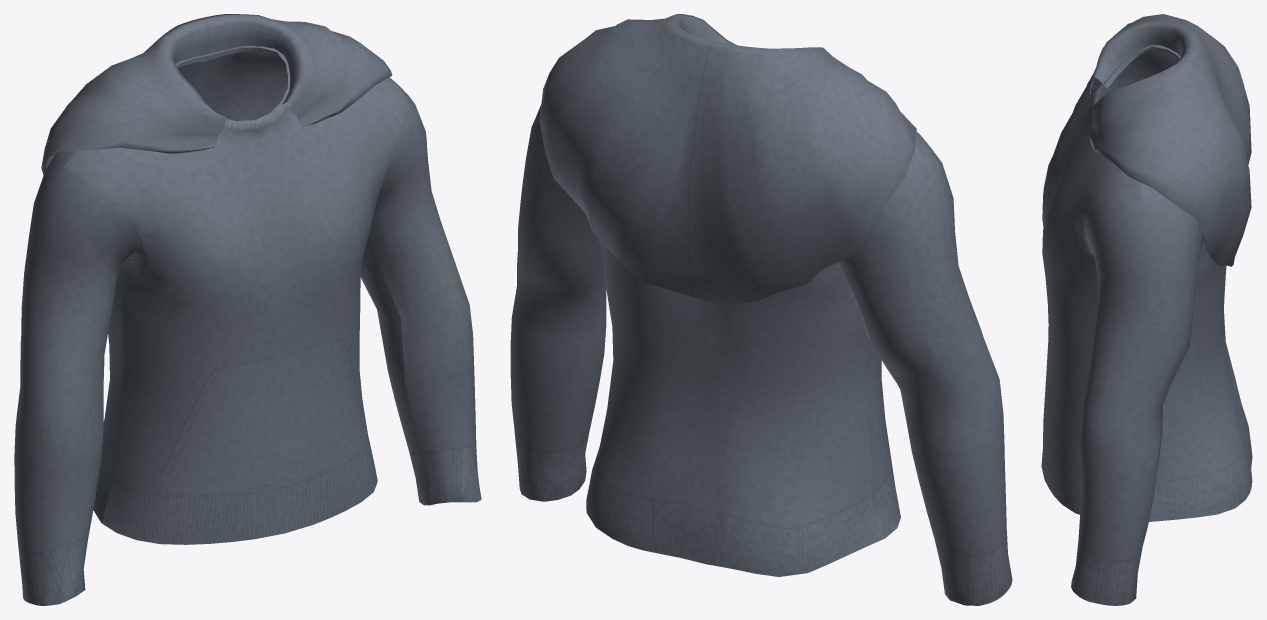
File: clothing_hoodie.glb
3 renders of one model, left to right at view 1: azimuth 30°, elevation 25°; view 2: azimuth 150°, elevation 25°; view 3: azimuth 270°, elevation 25°, orthographic. The views are drawn at different scales.
Visible parts, largest first — view 1: Cloth_hoodie; view 2: Cloth_hoodie; view 3: Cloth_hoodie.
Boxes of the visible parts, box(x1,y1,x2,y2) form: Cloth_hoodie: box(14, 14, 481, 605); Cloth_hoodie: box(510, 14, 1012, 605); Cloth_hoodie: box(1041, 14, 1252, 605).
Size of the model in its own units: 0.6734 by 0.7115 by 0.2931.
1 material, 1 textured.
